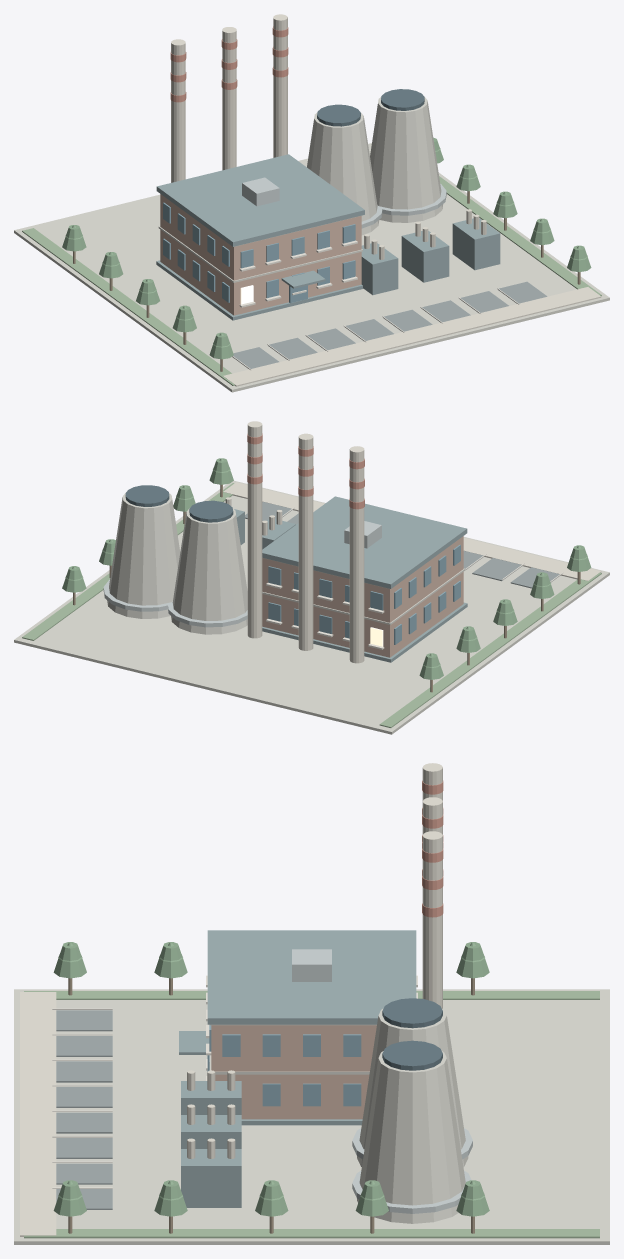
The model's file is remaster_power.glb.
3 views of the same model, one above another, from view 1: azimuth 30°, elevation 25°; view 2: azimuth 150°, elevation 25°; view 3: azimuth 270°, elevation 25° (orthographic). The views are drawn at different scales.
Visible parts, largest first — view 1: remaster_power stone, remaster_power roof, remaster_power cream, remaster_power brick, remaster_power asphalt, remaster_power leaf, remaster_power green, remaster_power glass, remaster_power dark, remaster_power metal, remaster_power red, remaster_power white; view 2: remaster_power stone, remaster_power cream, remaster_power roof, remaster_power brick, remaster_power leaf, remaster_power green, remaster_power glass, remaster_power asphalt, remaster_power metal, remaster_power dark, remaster_power red, remaster_power white; view 3: remaster_power stone, remaster_power roof, remaster_power cream, remaster_power brick, remaster_power asphalt, remaster_power green, remaster_power leaf, remaster_power glass, remaster_power dark, remaster_power metal, remaster_power white, remaster_power red.
Part boxes in pixels (bbox=[...]): remaster_power stone: bbox=[14, 96, 609, 392]; remaster_power roof: bbox=[156, 154, 500, 320]; remaster_power cream: bbox=[171, 14, 601, 386]; remaster_power brick: bbox=[160, 194, 361, 315]; remaster_power asphalt: bbox=[232, 281, 547, 368]; remaster_power leaf: bbox=[62, 137, 591, 359]; remaster_power green: bbox=[22, 176, 601, 385]; remaster_power glass: bbox=[163, 202, 355, 303]; remaster_power dark: bbox=[317, 89, 424, 126]; remaster_power metal: bbox=[242, 177, 446, 228]; remaster_power red: bbox=[170, 26, 288, 102]; remaster_power white: bbox=[232, 240, 519, 370]; remaster_power stone: bbox=[14, 480, 609, 734]; remaster_power cream: bbox=[223, 421, 601, 663]; remaster_power roof: bbox=[234, 496, 467, 662]; remaster_power brick: bbox=[262, 536, 463, 657]; remaster_power leaf: bbox=[62, 458, 591, 679]; remaster_power green: bbox=[22, 483, 601, 727]; remaster_power glass: bbox=[268, 545, 460, 644]; remaster_power asphalt: bbox=[245, 502, 560, 588]; remaster_power metal: bbox=[103, 521, 381, 627]; remaster_power dark: bbox=[125, 485, 233, 522]; remaster_power red: bbox=[247, 433, 364, 509]; remaster_power white: bbox=[266, 507, 562, 649]; remaster_power stone: bbox=[14, 989, 609, 1244]; remaster_power roof: bbox=[179, 930, 416, 1207]; remaster_power cream: bbox=[20, 763, 442, 1236]; remaster_power brick: bbox=[211, 1025, 376, 1119]; remaster_power asphalt: bbox=[56, 1010, 112, 1209]; remaster_power green: bbox=[24, 991, 599, 1238]; remaster_power leaf: bbox=[53, 942, 489, 1216]; remaster_power glass: bbox=[207, 1025, 361, 1106]; remaster_power dark: bbox=[382, 998, 442, 1070]; remaster_power metal: bbox=[292, 949, 472, 1213]; remaster_power white: bbox=[52, 975, 417, 1188]; remaster_power red: bbox=[422, 780, 443, 917].
Size of the model in its own units: 29.65 by 16 by 29.6.
